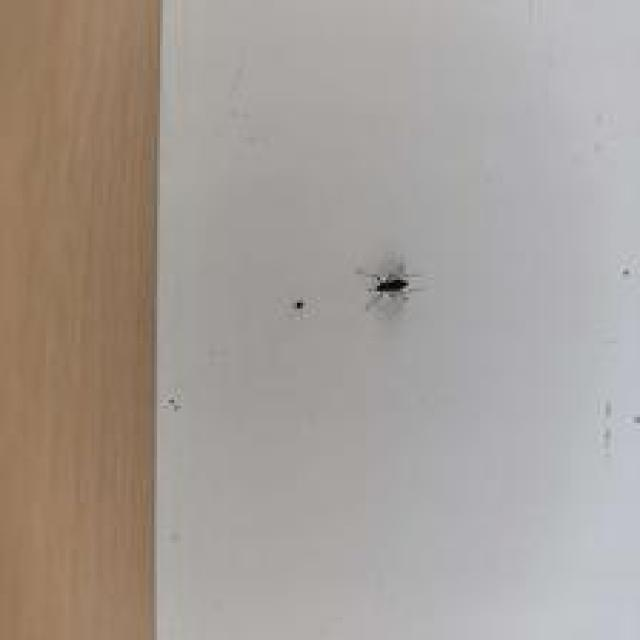Aedes albopictus: (356, 262, 424, 298)
